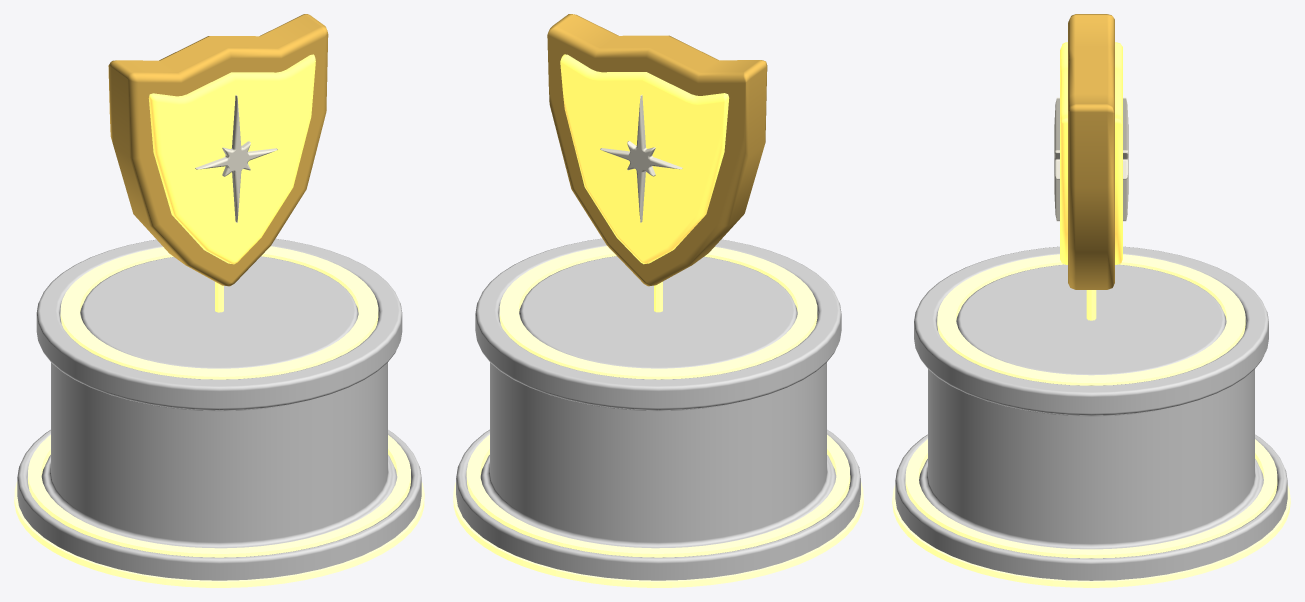
Rendered from Lobby_PED_Shield.fbx.
3 views of the same model, side by side, from view 1: azimuth 30°, elevation 25°; view 2: azimuth 150°, elevation 25°; view 3: azimuth 270°, elevation 25° (orthographic). The views are drawn at different scales.
Visible parts, largest first — view 1: Lobby_PED_Shield__PedestalMarble, Lobby_PED_Shield__Glyph_ShieldFace, Lobby_PED_Shield__Glyph_ShieldGold, Lobby_PED_Shield__PedNeon_Shield, Lobby_PED_Shield__Glyph_ShieldStar; view 2: Lobby_PED_Shield__PedestalMarble, Lobby_PED_Shield__Glyph_ShieldFace, Lobby_PED_Shield__Glyph_ShieldGold, Lobby_PED_Shield__PedNeon_Shield, Lobby_PED_Shield__Glyph_ShieldStar; view 3: Lobby_PED_Shield__PedestalMarble, Lobby_PED_Shield__PedNeon_Shield, Lobby_PED_Shield__Glyph_ShieldGold, Lobby_PED_Shield__Glyph_ShieldFace, Lobby_PED_Shield__Glyph_ShieldStar.
Part boxes in pixels (x1=…): Lobby_PED_Shield__PedestalMarble: x1=17, y1=238, x2=421, y2=580; Lobby_PED_Shield__Glyph_ShieldFace: x1=148, y1=54, x2=315, y2=264; Lobby_PED_Shield__Glyph_ShieldGold: x1=108, y1=14, x2=328, y2=286; Lobby_PED_Shield__PedNeon_Shield: x1=14, y1=246, x2=424, y2=587; Lobby_PED_Shield__Glyph_ShieldStar: x1=195, y1=95, x2=277, y2=222; Lobby_PED_Shield__PedestalMarble: x1=456, y1=238, x2=860, y2=580; Lobby_PED_Shield__Glyph_ShieldFace: x1=560, y1=54, x2=729, y2=264; Lobby_PED_Shield__Glyph_ShieldGold: x1=547, y1=14, x2=767, y2=286; Lobby_PED_Shield__PedNeon_Shield: x1=453, y1=246, x2=863, y2=587; Lobby_PED_Shield__Glyph_ShieldStar: x1=600, y1=94, x2=682, y2=222; Lobby_PED_Shield__PedestalMarble: x1=895, y1=246, x2=1287, y2=580; Lobby_PED_Shield__PedNeon_Shield: x1=892, y1=254, x2=1290, y2=587; Lobby_PED_Shield__Glyph_ShieldGold: x1=1068, y1=14, x2=1114, y2=289; Lobby_PED_Shield__Glyph_ShieldFace: x1=1060, y1=42, x2=1122, y2=264; Lobby_PED_Shield__Glyph_ShieldStar: x1=1054, y1=97, x2=1128, y2=221.
Bounding box in the file's own units: 4.26 × 5.28 × 4.26.
